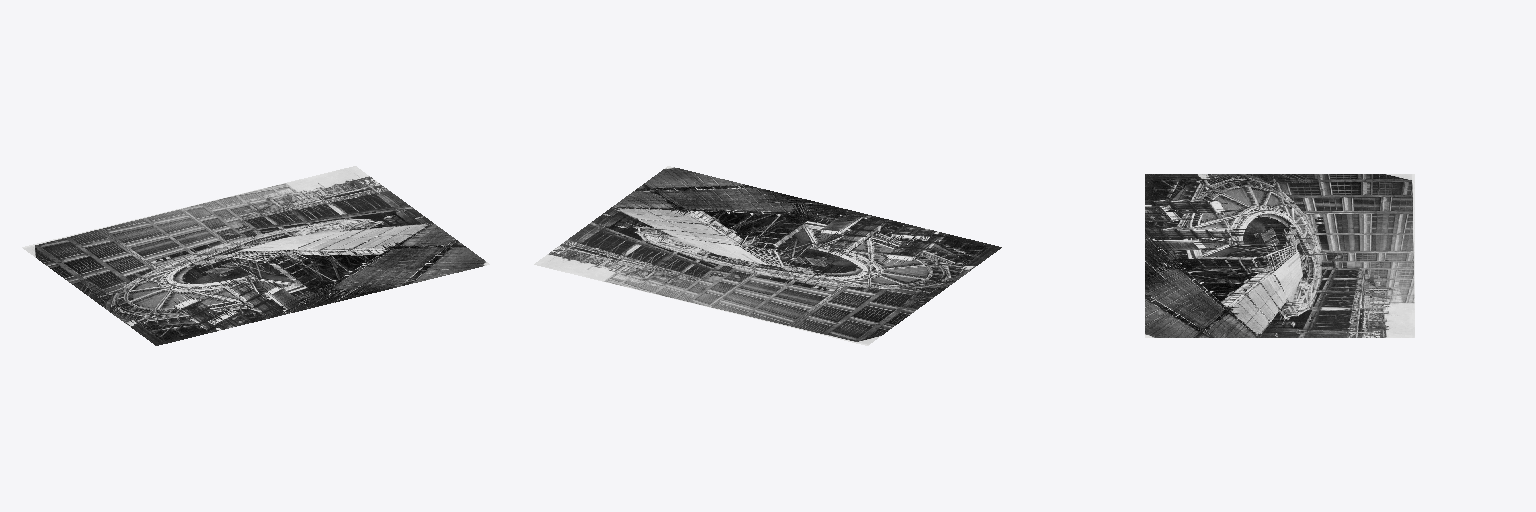
The picture shows the model from 3 angles: view 1: azimuth 30°, elevation 25°; view 2: azimuth 150°, elevation 25°; view 3: azimuth 270°, elevation 25°; orthographic projection.
Visible parts, largest first — view 1: Plane001; view 2: Plane001; view 3: Plane001.
Part boxes in pixels (bbox=[...]): Plane001: bbox=[22, 166, 489, 345]; Plane001: bbox=[534, 166, 1001, 345]; Plane001: bbox=[1145, 174, 1414, 337].
Size of the model in its own units: 3.78 by 0 by 2.65.
1 materials, 1 textured.